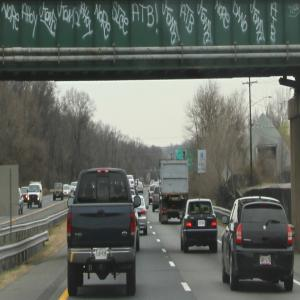Vehicle-registration-plate: (96, 249, 108, 262), (261, 255, 272, 266), (200, 221, 206, 227)
